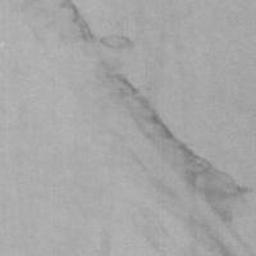Water spot: (14, 0, 256, 256)
